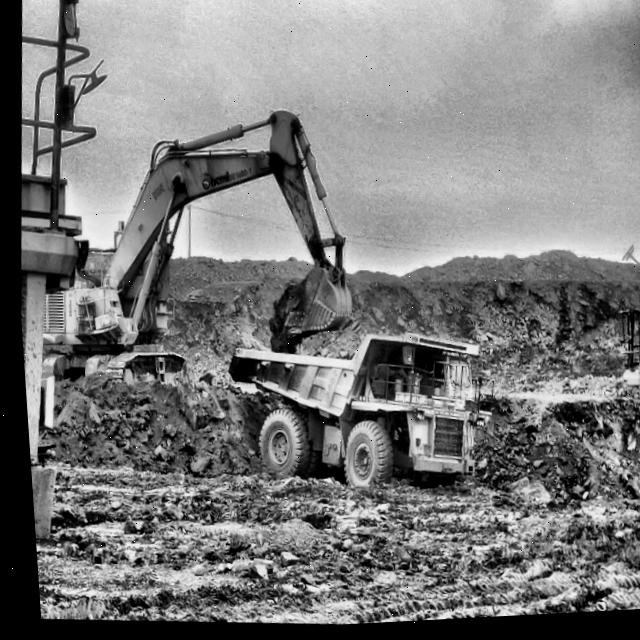dump_truck: (223, 320, 471, 492)
excavator: (49, 114, 347, 392)
